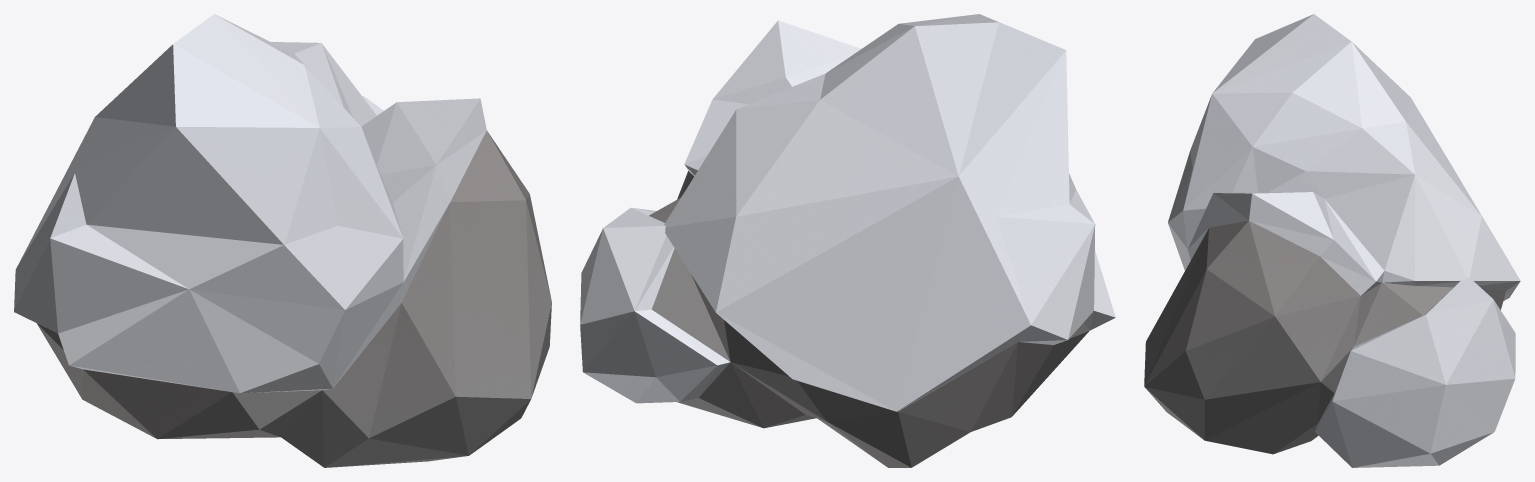
The model's file is Rock_Medium_2B.fbx.
The picture shows the model from 3 angles, left to right: view 1: azimuth 30°, elevation 25°; view 2: azimuth 150°, elevation 25°; view 3: azimuth 270°, elevation 25°; orthographic projection. The views are drawn at different scales.
Visible parts, largest first — view 1: Group64618; view 2: Group64618; view 3: Group64618.
Boxes of the visible parts, box(x1,y1,x2,y2) form: Group64618: box(14, 14, 551, 467); Group64618: box(580, 14, 1115, 467); Group64618: box(1144, 14, 1520, 467).
Size of the model in its own units: 4.22 by 3.64 by 3.59.
1 material, 1 textured.
